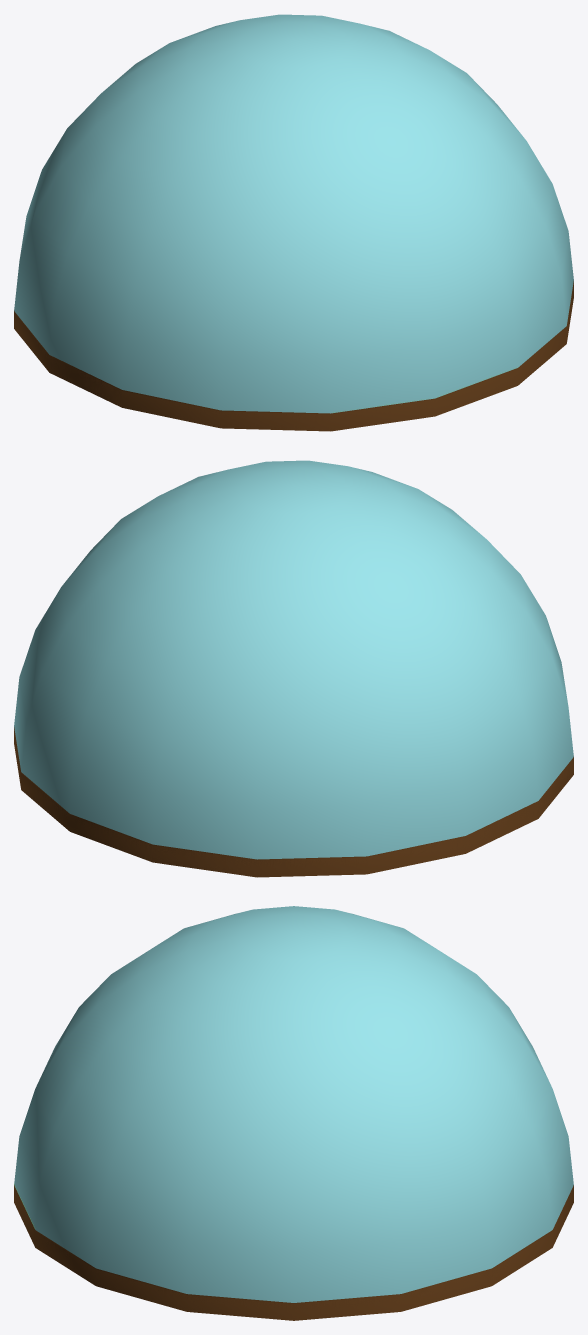
The model's file is panel.dae.
3 views of the same model, one above another, from view 1: azimuth 30°, elevation 25°; view 2: azimuth 150°, elevation 25°; view 3: azimuth 270°, elevation 25° (orthographic).
Visible parts, largest first — view 1: sphere; view 2: sphere; view 3: sphere.
Boxes of the visible parts, <box> form: sphere: <box>14,14,573,431</box>; sphere: <box>14,460,573,877</box>; sphere: <box>14,906,573,1320</box>.
Bounding box in the file's own units: 571 × 304 × 571.
